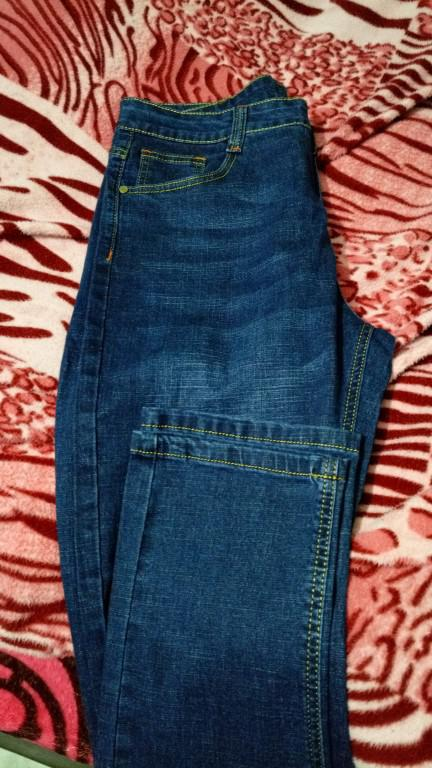jeans: (36, 98, 421, 768)
